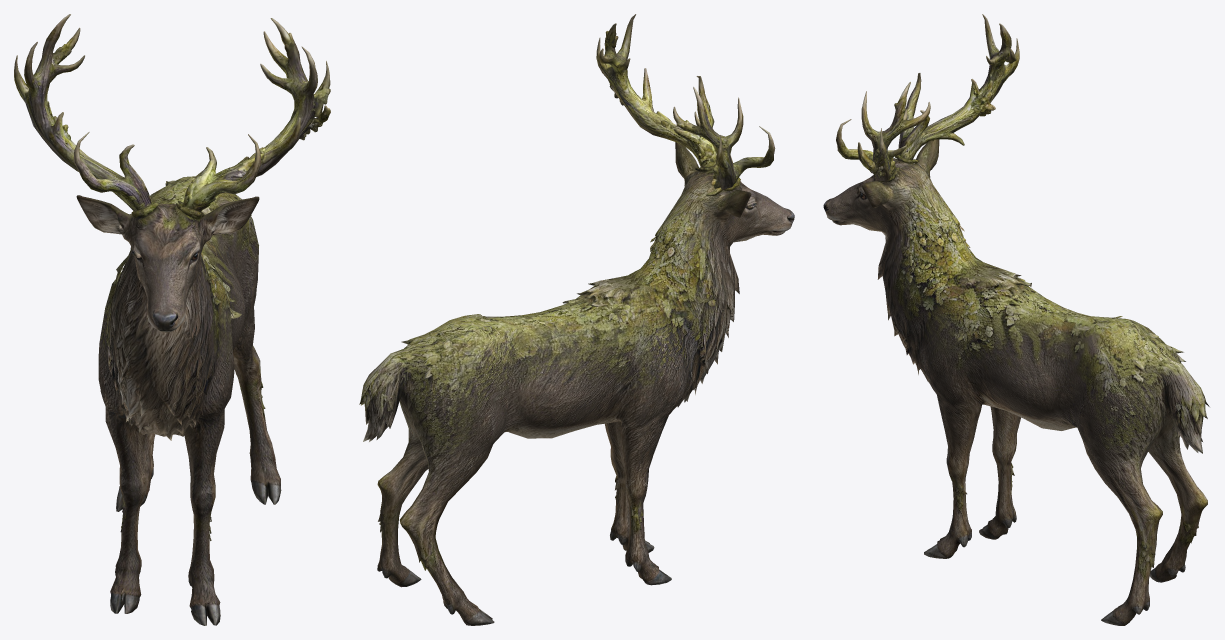
The model's file is forest-ran-lod0.glb.
The picture shows the model from 3 angles, left to right: view 1: azimuth 30°, elevation 25°; view 2: azimuth 150°, elevation 25°; view 3: azimuth 270°, elevation 25°; orthographic projection. The views are drawn at different scales.
Visible parts, largest first — view 1: forest-ran_SourceMesh; view 2: forest-ran_SourceMesh; view 3: forest-ran_SourceMesh.
Part boxes in pixels (bbox=[...]): forest-ran_SourceMesh: bbox=[14, 14, 330, 625]; forest-ran_SourceMesh: bbox=[359, 14, 794, 625]; forest-ran_SourceMesh: bbox=[823, 14, 1209, 625].
Bounding box in the file's own units: 1.19 × 2 × 1.43.
Materials: 1 (1 with a texture image).
